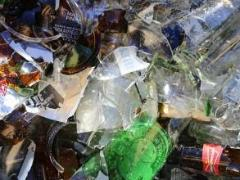glass: (64, 114, 176, 180)
